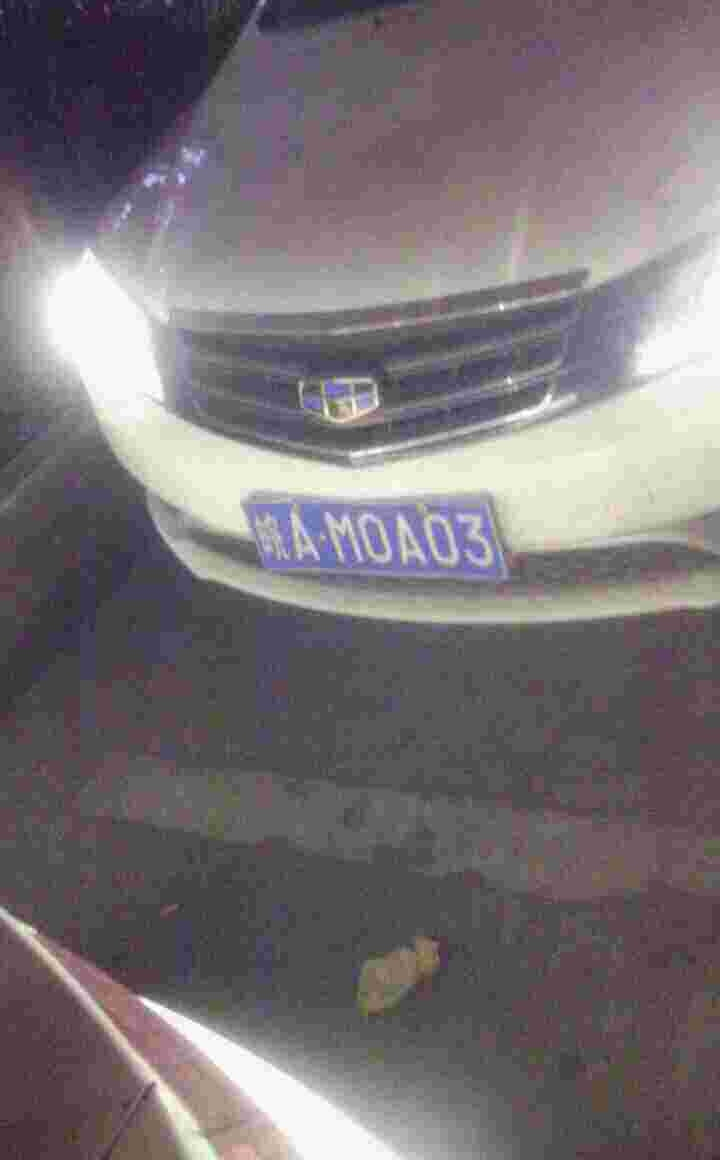license_plate: (243, 508, 503, 574)
